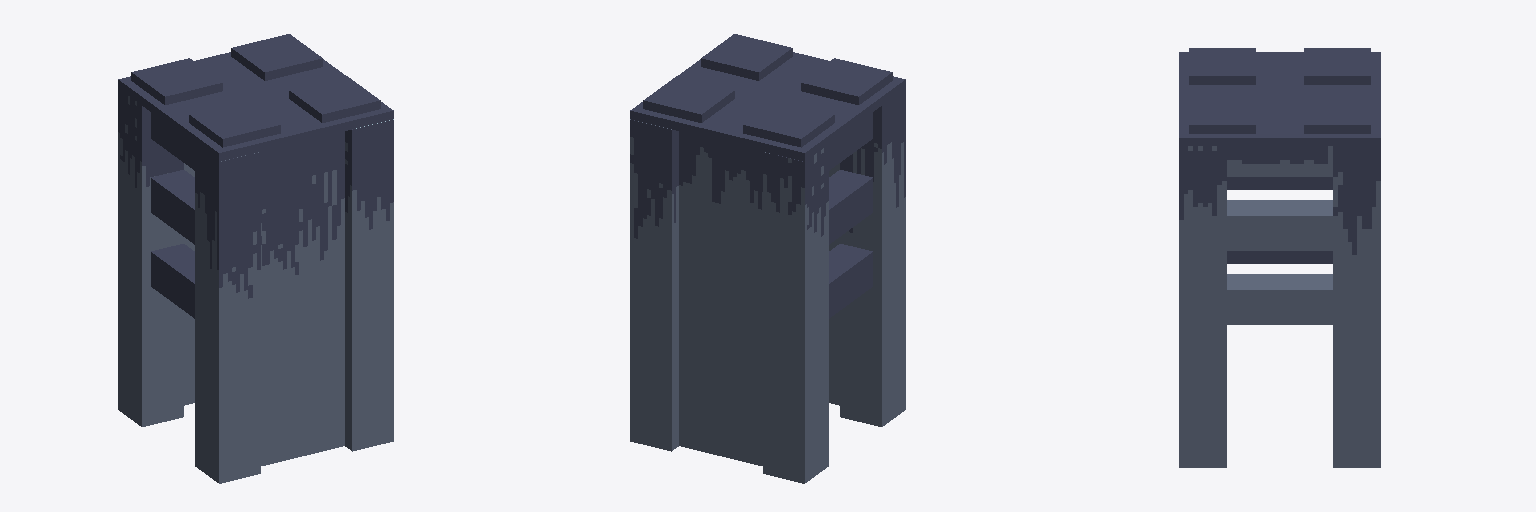
3 renders of one model, left to right at view 1: azimuth 30°, elevation 25°; view 2: azimuth 150°, elevation 25°; view 3: azimuth 270°, elevation 25°, orthographic.
Visible parts, largest first — view 1: cuboid; view 2: cuboid; view 3: cuboid.
Part boxes in pixels (x1,y1,x2,y2): cuboid: (118,34,393,483); cuboid: (630,34,905,483); cuboid: (1179,48,1380,467).
Size of the model in its own units: 2.62 by 4.88 by 2.64.
Materials: 1 (1 with a texture image).